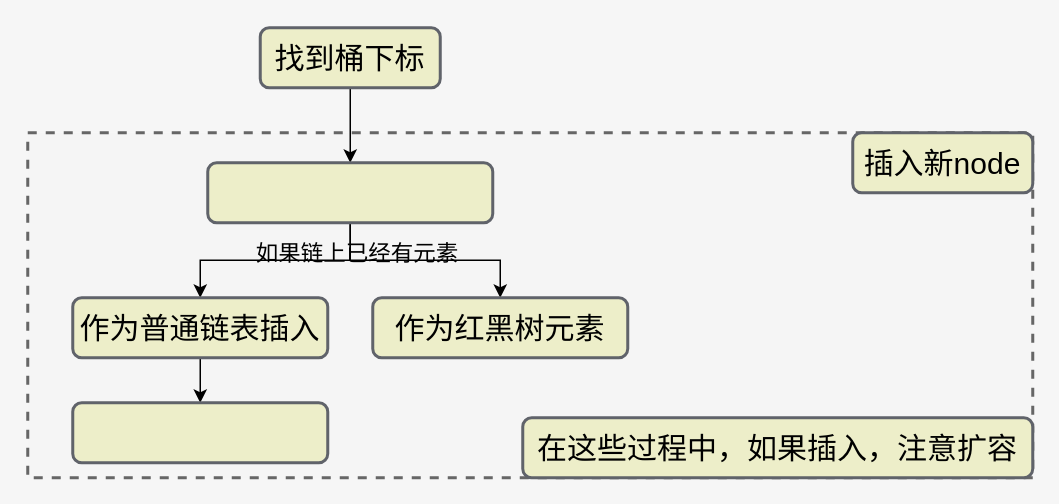
Image size: 1059x504. Some labels were removed from this diagram. The centre of each missing label's shape, as x and y in pixels:
"作为链表第一个元素" goes at (350,192).
"普通链表转红黑树" goes at (199,432).
